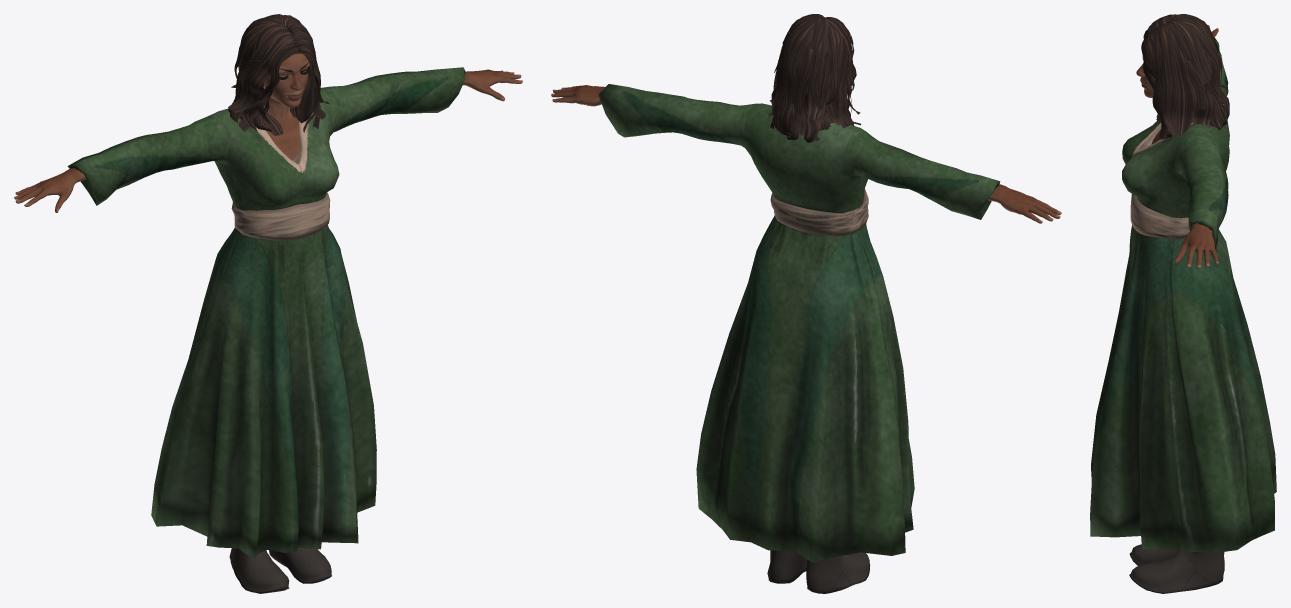
The model's file is female Villager.obj.
3 renders of one model, left to right at view 1: azimuth 30°, elevation 25°; view 2: azimuth 150°, elevation 25°; view 3: azimuth 270°, elevation 25°, orthographic.
Visible parts, largest first — view 1: Tops, Hair, Body, Shoes; view 2: Tops, Hair, Shoes, Body; view 3: Tops, Hair, Shoes, Body.
Part boxes in pixels (x1,y1,x2,y2): Tops: (67, 67, 465, 558); Hair: (228, 14, 329, 135); Body: (14, 53, 522, 212); Shoes: (229, 547, 331, 593); Tops: (598, 84, 1000, 563); Hair: (768, 14, 860, 142); Shoes: (767, 550, 870, 593); Body: (551, 85, 1061, 223); Tops: (1090, 37, 1276, 552); Hair: (1141, 14, 1229, 139); Shoes: (1129, 544, 1224, 593); Body: (1136, 25, 1218, 268).
Size of the model in its own units: 166 by 175 by 53.07.
4 materials, 4 textured.
